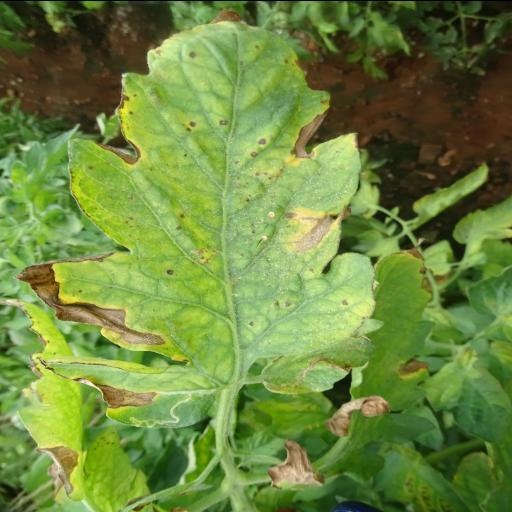Early Blight: (12, 16, 376, 362)
